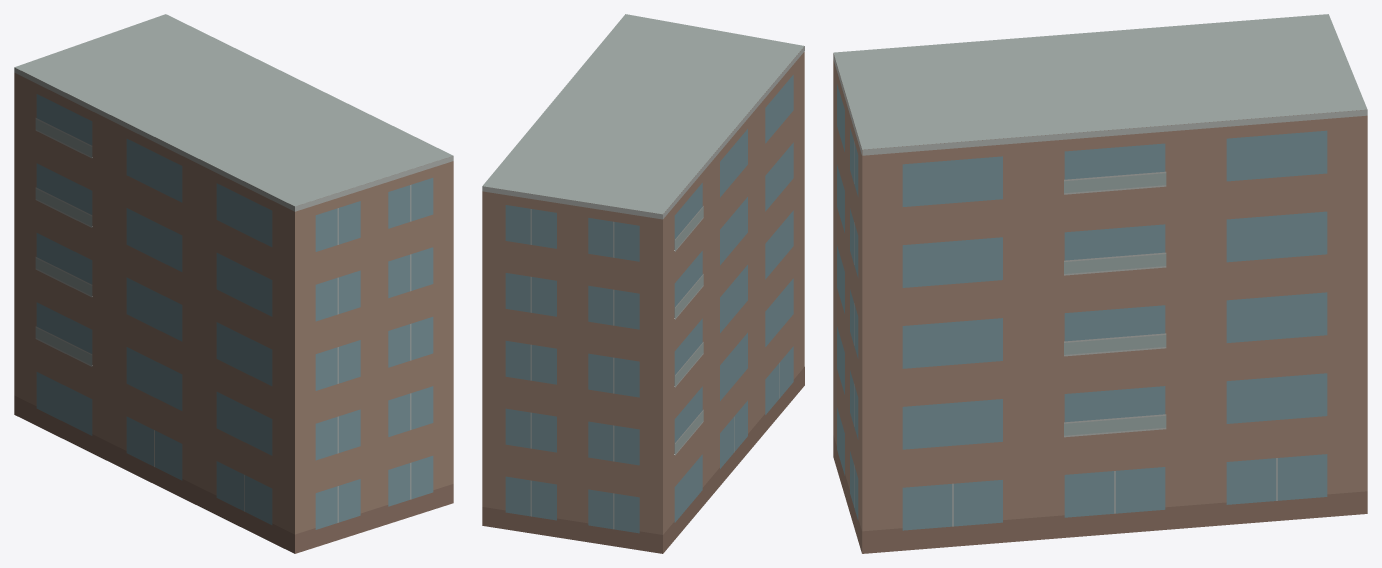
File: survey-upis-32966988.glb
3 views of the same model, side by side, from view 1: azimuth 30°, elevation 25°; view 2: azimuth 150°, elevation 25°; view 3: azimuth 270°, elevation 25° (orthographic). The views are drawn at different scales.
Parts seen in each view (by area): view 1: survey-upis-32966988.tmp; view 2: survey-upis-32966988.tmp; view 3: survey-upis-32966988.tmp.
Part boxes in pixels (x1=…): survey-upis-32966988.tmp: x1=14, y1=14, x2=453, y2=553; survey-upis-32966988.tmp: x1=482, y1=14, x2=804, y2=553; survey-upis-32966988.tmp: x1=833, y1=14, x2=1367, y2=553.
Size of the model in its own units: 11.59 by 16.1 by 19.29.
